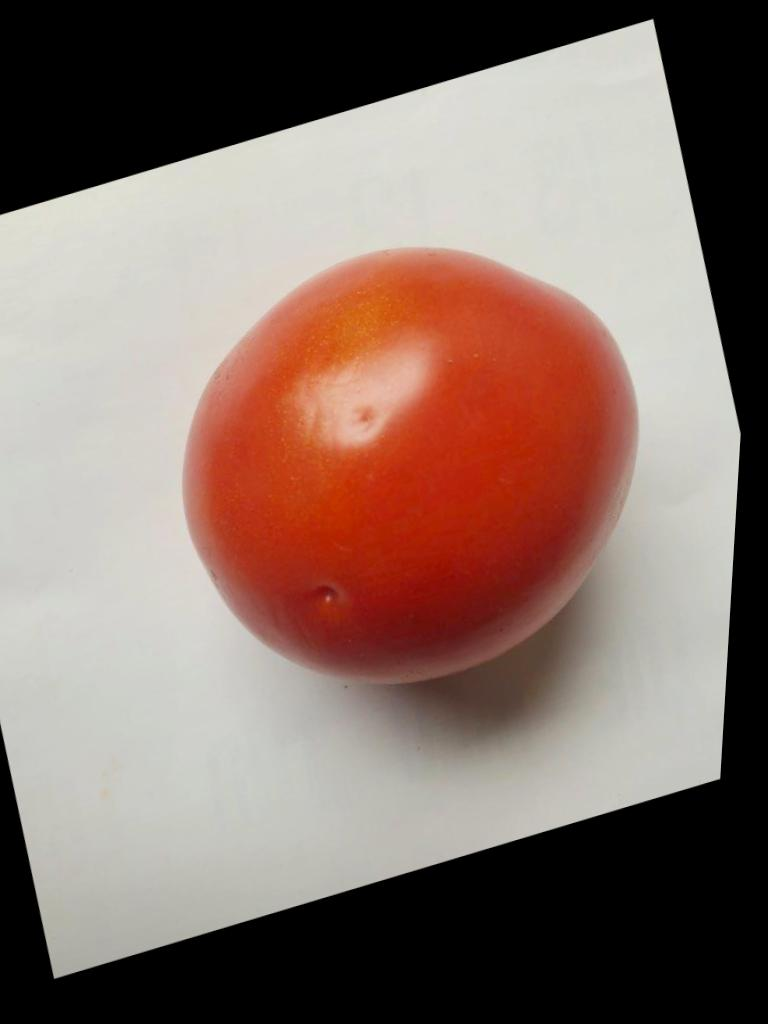tomato: (185, 247, 637, 682)
